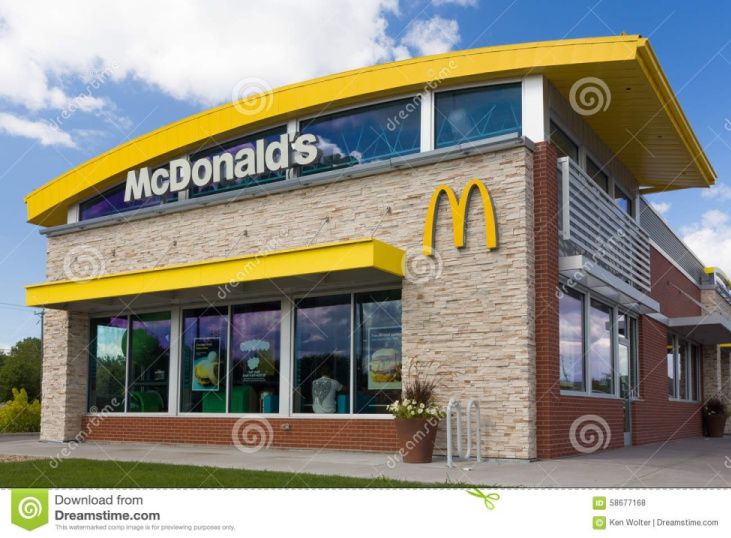mcdonalds: (415, 174, 512, 257)
